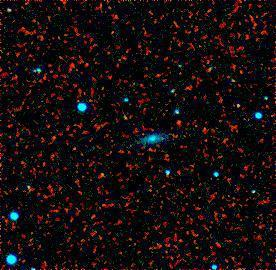star: (164, 108, 194, 138)
